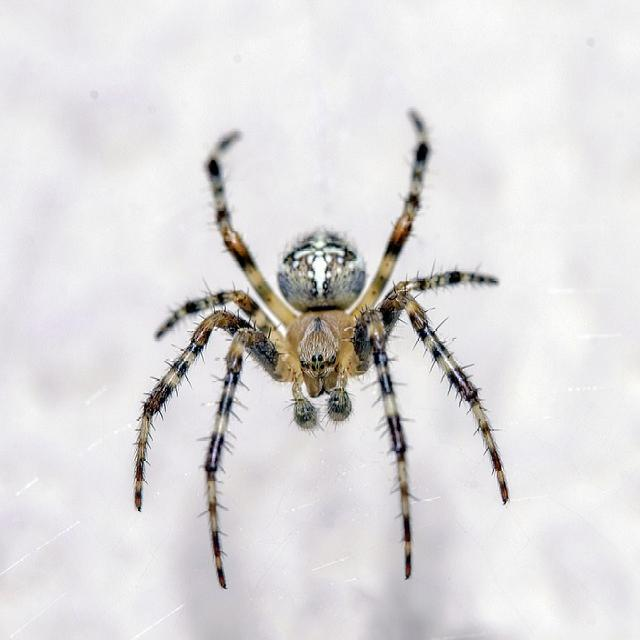spyder: (135, 111, 509, 587)
